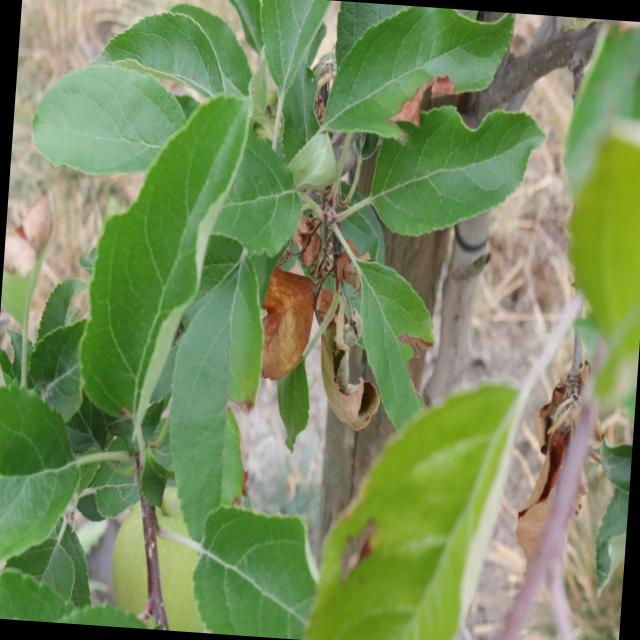-FireBlight-: (240, 214, 376, 422)
